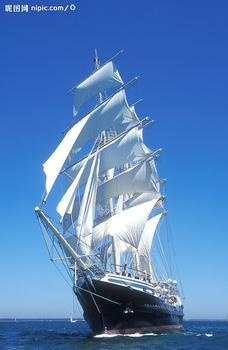fanchuan: (31, 48, 189, 340)
